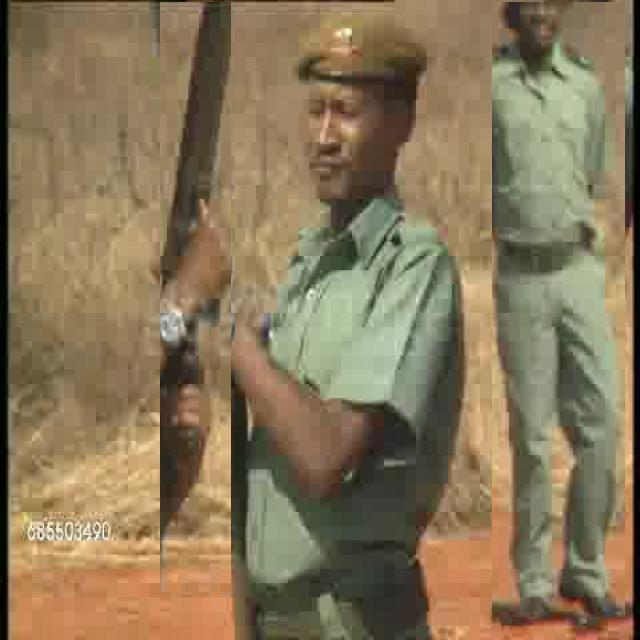poacher: (257, 3, 468, 510), (492, 2, 625, 617)
weapon: (160, 2, 231, 592)
